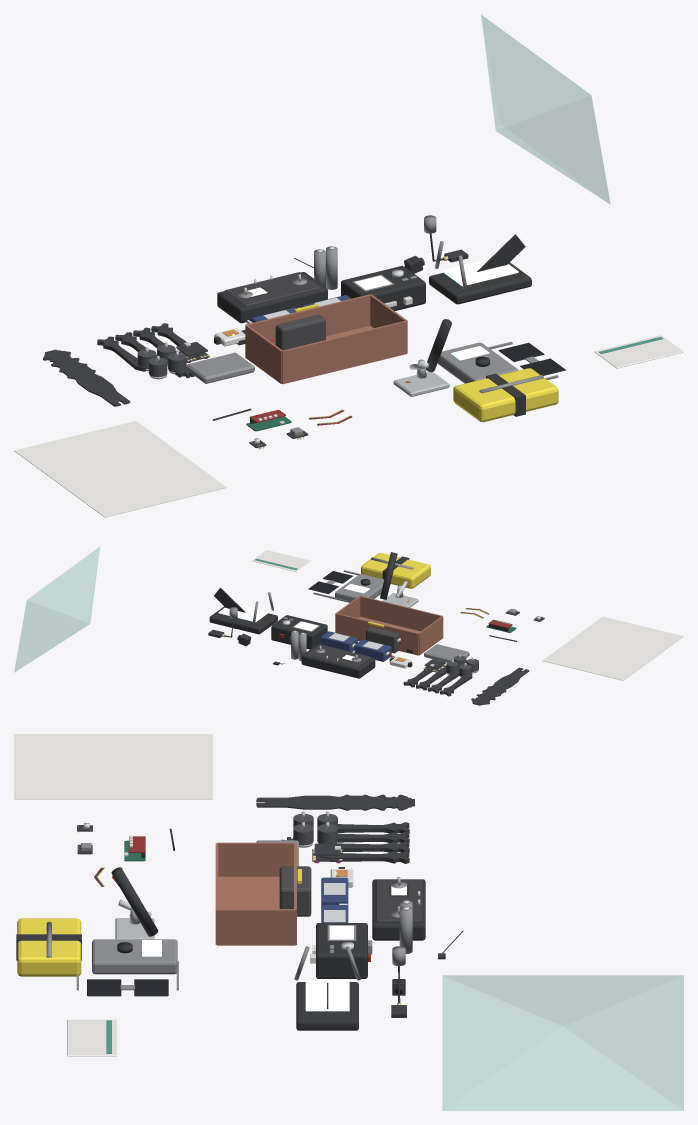
Rendered from step-01-parts.glb.
The picture shows the model from 3 angles, top to bottom: view 1: azimuth 30°, elevation 25°; view 2: azimuth 150°, elevation 25°; view 3: azimuth 270°, elevation 25°; orthographic projection. The views are drawn at different scales.
Parts seen in each view (by area): view 1: cone_pilot, order_list_paper, bag_wall_front, toolkit_roll, bag_wall_back, charger_body, monitor_body, radio_body, meter_body, laptop_tag, radio_face, battery_pack_liion (+5 smaller); view 2: cone_pilot, order_list_paper, bag_wall_front, toolkit_roll, bag_wall_back, charger_body, radio_body, monitor_body, meter_body, laptop_tag, radio_face, bag_wall_left (+11 smaller); view 3: cone_pilot, order_list_paper, toolkit_roll, bag_wall_right, meter_body, bag_wall_left, charger_body, bag_floor, monitor_body, laptop_tag, radio_face, monitor_screen (+13 smaller).
Part boxes in pixels (<box>): cone_pilot: <box>481,15,610,203</box>; order_list_paper: <box>14,421,226,517</box>; bag_wall_front: <box>282,320,407,384</box>; toolkit_roll: <box>453,368,558,422</box>; bag_wall_back: <box>246,294,370,344</box>; charger_body: <box>341,266,425,310</box>; monitor_body: <box>429,262,531,304</box>; radio_body: <box>217,272,327,323</box>; meter_body: <box>437,342,518,383</box>; laptop_tag: <box>594,335,683,368</box>; radio_face: <box>224,272,320,306</box>; battery_pack_liion: <box>275,314,325,350</box>; cone_pilot: <box>14,547,99,672</box>; order_list_paper: <box>542,616,683,680</box>; bag_wall_front: <box>360,596,442,631</box>; toolkit_roll: <box>361,553,430,588</box>; bag_wall_back: <box>335,613,418,655</box>; charger_body: <box>271,615,327,649</box>; radio_body: <box>301,644,375,678</box>; monitor_body: <box>209,606,277,634</box>; meter_body: <box>335,574,384,602</box>; laptop_tag: <box>252,550,310,572</box>; radio_face: <box>306,644,370,667</box>; bag_wall_left: <box>419,616,443,655</box>; cone_pilot: <box>442,975,683,1110</box>; order_list_paper: <box>14,734,212,799</box>; toolkit_roll: <box>17,918,81,976</box>; bag_wall_right: <box>217,909,295,945</box>; meter_body: <box>92,939,177,974</box>; bag_wall_left: <box>217,842,295,876</box>; charger_body: <box>316,923,367,978</box>; bag_floor: <box>218,876,279,908</box>; monitor_body: <box>296,982,358,1030</box>; laptop_tag: <box>67,1019,116,1056</box>; radio_face: <box>375,880,422,921</box>; monitor_screen: <box>305,980,349,1011</box>.
Size of the model in its own units: 1.24 by 0.1995 by 0.9388.
